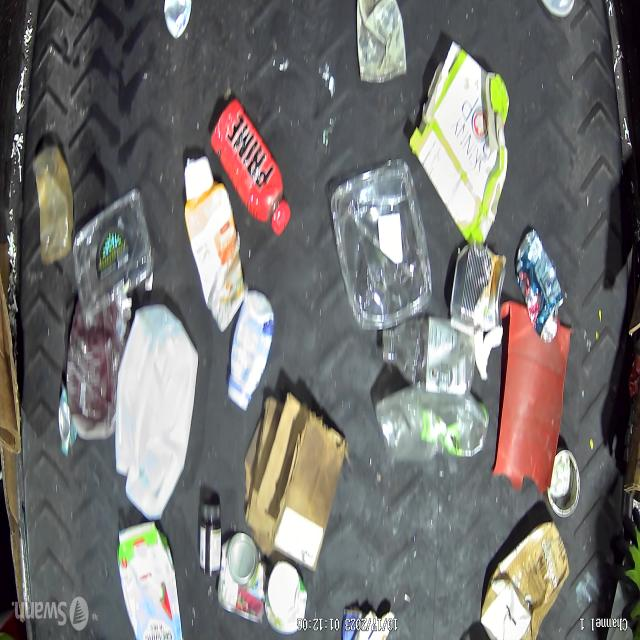can: (515, 229, 563, 344), (452, 242, 506, 334), (218, 530, 266, 625), (548, 446, 580, 520), (161, 1, 192, 40)
milk_jug: (117, 306, 195, 516)
non_white_jug: (117, 523, 183, 640)
plastic_bottle: (381, 315, 476, 395)
